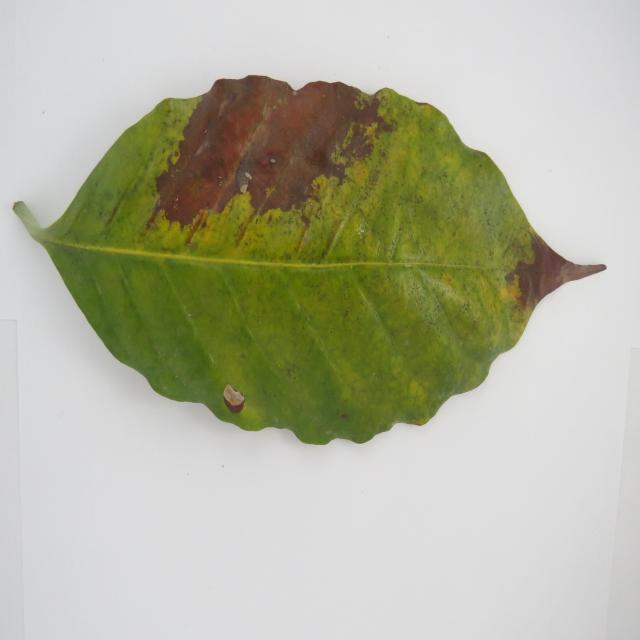DeficienciaNutricional-Potasio: (14, 75, 605, 443)
